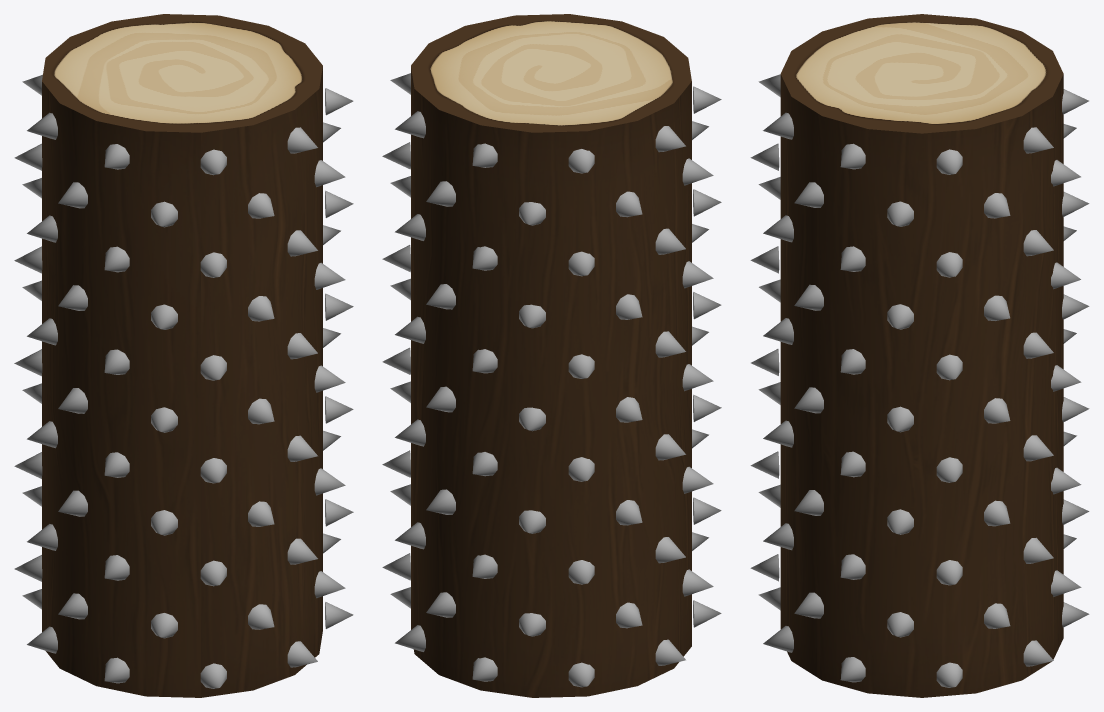
File: Spike_log.fbx
3 renders of one model, left to right at view 1: azimuth 30°, elevation 25°; view 2: azimuth 150°, elevation 25°; view 3: azimuth 270°, elevation 25°, orthographic.
Parts seen in each view (by area): view 1: Spike_log; view 2: Spike_log; view 3: Spike_log.
Part boxes in pixels (bbox=[...]): Spike_log: bbox=[14, 14, 353, 697]; Spike_log: bbox=[382, 14, 721, 697]; Spike_log: bbox=[750, 14, 1089, 697].
Size of the model in its own units: 119 by 220 by 120.
